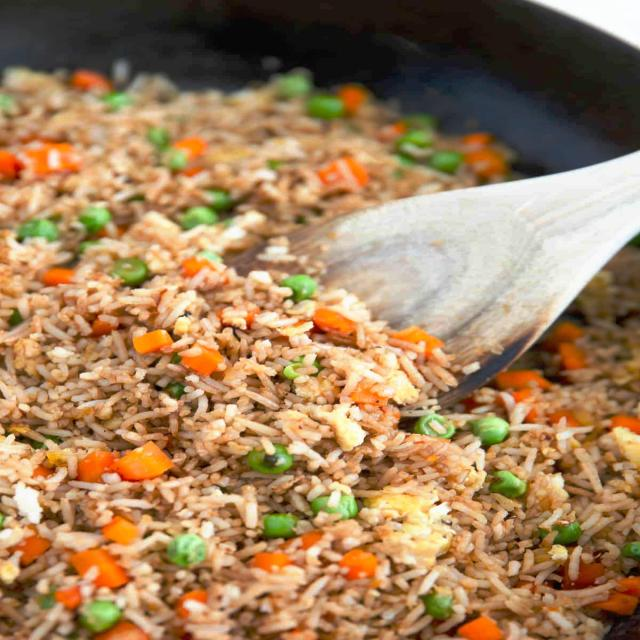Fried Rice: (2, 65, 640, 635)
